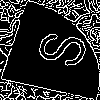S: (25, 25, 90, 71)
